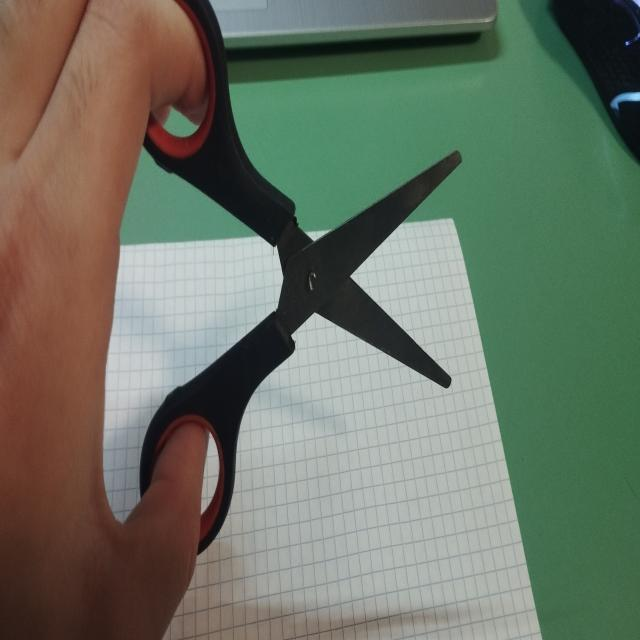tesoura: (128, 0, 470, 571)
